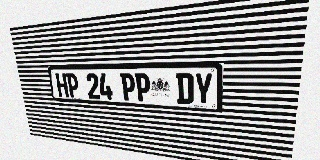2: (86, 73, 100, 99)
4: (98, 73, 113, 100)
D: (176, 73, 194, 104)
H: (55, 73, 69, 97)
P: (135, 73, 151, 102), (120, 73, 136, 101), (66, 73, 80, 98)
Y: (194, 73, 213, 105)
